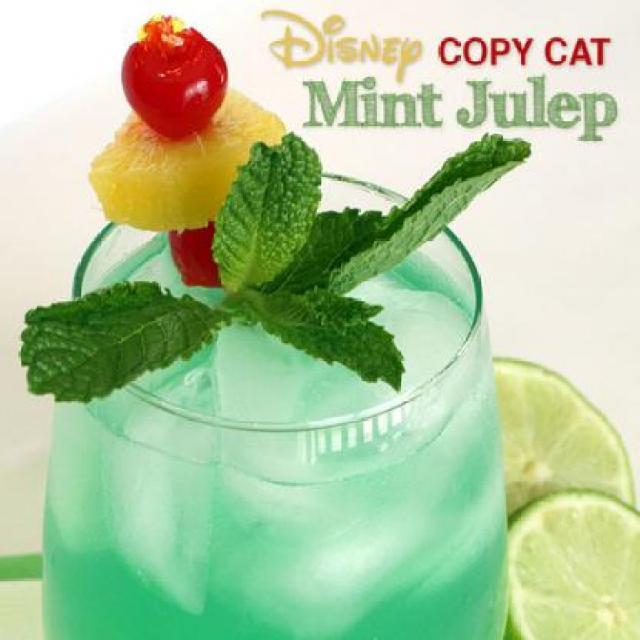Lemon: (90, 88, 290, 226), (496, 354, 634, 516), (511, 488, 635, 634)
